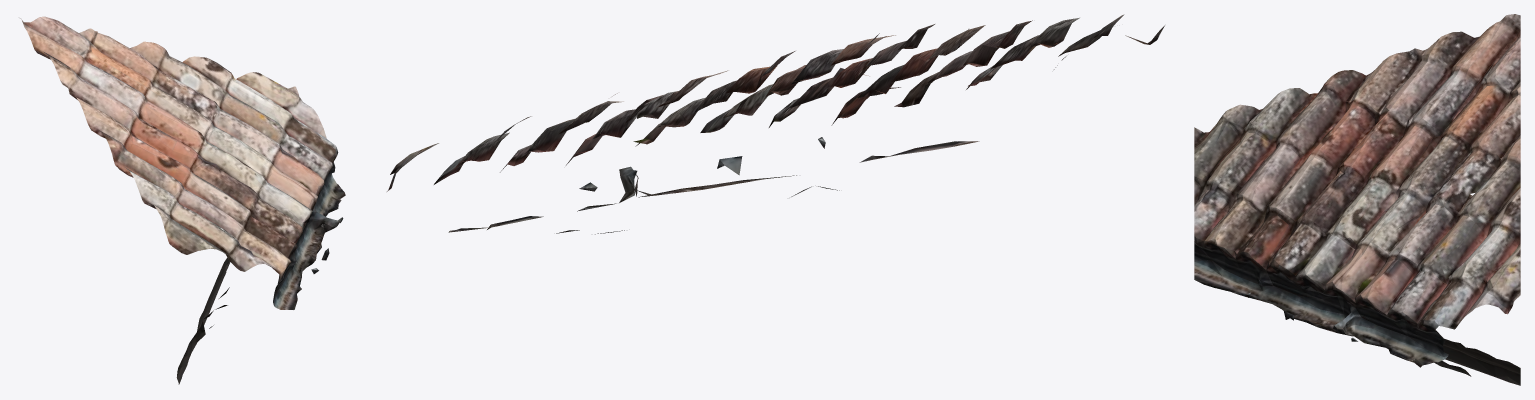
3 renders of one model, left to right at view 1: azimuth 30°, elevation 25°; view 2: azimuth 150°, elevation 25°; view 3: azimuth 270°, elevation 25°, orthographic. The views are drawn at different scales.
Bounding box in the file's own units: 1.67 × 1.45 × 1.67.
4 materials, 4 textured.
